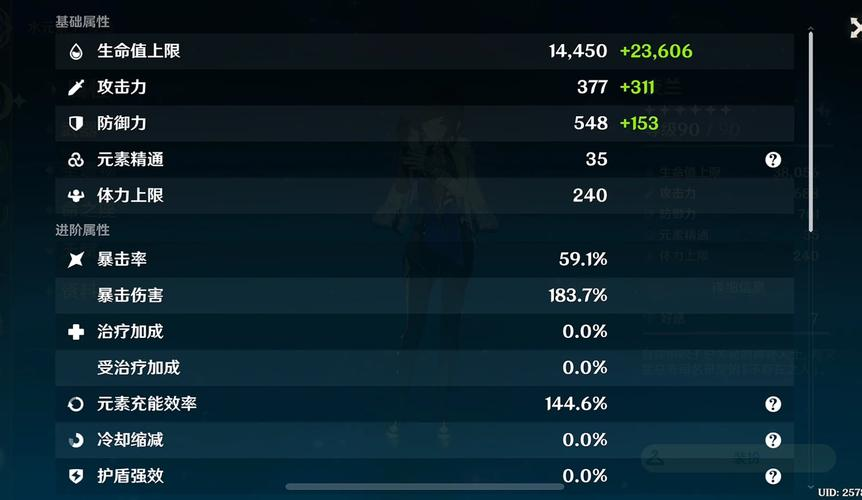夜兰: (370, 92, 493, 460)
